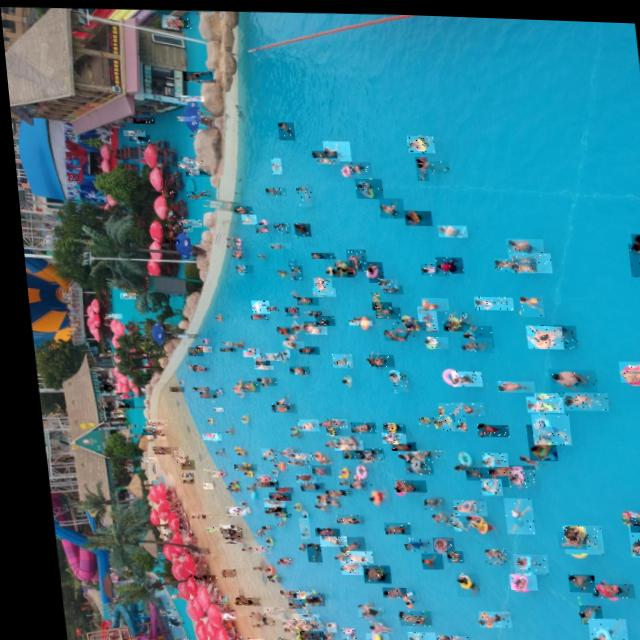Person: (522, 407, 563, 440), (541, 362, 590, 389), (551, 519, 593, 550), (493, 493, 525, 530), (517, 419, 549, 456), (478, 459, 527, 483), (575, 612, 616, 640), (531, 319, 571, 344), (519, 319, 557, 344), (504, 246, 547, 268), (555, 386, 601, 406), (501, 233, 540, 256), (430, 398, 458, 427), (617, 517, 640, 552), (502, 548, 537, 570), (456, 320, 487, 344), (579, 577, 623, 593), (517, 390, 556, 408), (611, 355, 640, 378), (489, 252, 532, 267), (443, 494, 477, 512), (498, 463, 528, 483), (468, 291, 508, 306), (444, 568, 468, 593), (623, 237, 640, 272), (466, 606, 499, 624), (351, 174, 379, 195), (320, 137, 348, 158), (386, 606, 419, 623), (357, 480, 380, 504), (395, 451, 424, 470), (453, 332, 485, 349), (546, 526, 576, 544), (404, 131, 432, 150), (556, 568, 584, 587), (351, 561, 379, 580), (513, 291, 538, 312), (340, 245, 362, 268), (375, 194, 400, 214), (411, 302, 431, 327), (443, 366, 474, 382), (489, 375, 527, 388), (279, 611, 308, 628), (498, 569, 527, 586), (430, 252, 458, 269), (438, 305, 465, 322), (567, 600, 591, 619), (468, 419, 500, 433), (414, 156, 446, 170), (526, 387, 552, 404), (381, 366, 401, 388), (329, 557, 358, 572), (446, 397, 477, 411), (386, 475, 417, 489), (400, 206, 428, 221), (399, 444, 437, 455), (456, 462, 485, 476), (472, 447, 499, 462), (393, 533, 420, 548), (327, 533, 354, 548), (415, 293, 443, 307), (470, 474, 493, 491), (324, 435, 354, 448), (433, 220, 463, 233), (415, 259, 445, 272), (307, 274, 327, 293), (384, 318, 409, 333), (291, 181, 308, 203), (618, 510, 640, 527), (410, 549, 433, 565), (394, 628, 424, 640), (362, 257, 378, 279), (421, 533, 443, 549), (373, 518, 400, 531), (335, 547, 362, 560), (412, 152, 426, 177), (288, 589, 313, 603), (243, 522, 266, 537), (361, 350, 387, 363), (355, 618, 381, 631), (474, 544, 495, 560), (308, 531, 336, 543), (423, 630, 456, 640), (287, 617, 312, 630), (345, 602, 372, 614), (626, 227, 640, 250), (331, 257, 351, 273), (341, 418, 367, 430), (369, 303, 395, 315), (181, 162, 207, 174), (237, 610, 263, 622), (346, 157, 368, 171), (421, 508, 443, 522), (275, 119, 292, 137), (295, 540, 311, 559), (373, 428, 398, 440), (181, 68, 211, 78), (418, 332, 441, 345), (250, 604, 273, 617), (324, 350, 345, 364), (377, 325, 401, 337), (349, 444, 375, 455), (164, 15, 190, 26), (288, 415, 310, 428), (346, 449, 374, 459), (436, 317, 464, 327), (326, 511, 354, 521), (290, 478, 315, 489), (370, 583, 395, 594), (286, 627, 311, 638), (352, 629, 377, 640), (414, 493, 435, 506), (388, 446, 415, 456), (262, 400, 289, 410), (288, 514, 300, 536), (181, 188, 210, 197), (267, 587, 293, 597), (328, 623, 343, 640), (374, 419, 397, 430), (192, 112, 213, 124), (211, 524, 232, 536), (326, 432, 351, 442), (289, 219, 306, 233), (245, 297, 263, 310), (314, 485, 343, 493), (139, 417, 160, 428), (410, 414, 433, 424), (347, 311, 370, 321), (382, 438, 407, 447), (172, 216, 197, 225), (425, 412, 445, 423), (166, 220, 188, 230), (178, 153, 200, 163), (251, 445, 271, 456), (306, 284, 330, 293), (161, 207, 179, 219), (335, 433, 349, 448), (376, 280, 397, 290), (233, 378, 252, 389), (332, 446, 355, 455), (290, 293, 313, 302), (298, 322, 321, 331), (326, 265, 349, 274), (174, 158, 197, 167), (276, 594, 293, 606), (309, 312, 329, 322), (400, 317, 420, 327), (304, 525, 329, 533), (286, 470, 306, 480), (302, 462, 322, 472), (261, 184, 283, 193), (268, 219, 286, 230), (160, 219, 178, 230), (125, 132, 147, 141), (253, 495, 275, 504), (259, 489, 281, 498), (284, 262, 297, 277), (279, 449, 303, 457), (224, 595, 248, 603), (436, 546, 452, 558), (373, 275, 392, 285), (250, 220, 269, 230), (267, 154, 278, 171), (182, 572, 205, 580), (180, 509, 203, 517), (236, 543, 259, 551), (308, 147, 334, 154), (249, 374, 269, 383), (366, 298, 386, 307), (215, 504, 235, 513), (254, 502, 276, 510), (271, 625, 287, 636), (275, 337, 297, 345), (306, 249, 331, 256), (278, 457, 303, 464), (246, 471, 265, 480), (265, 484, 284, 493), (229, 262, 248, 271), (322, 415, 339, 425), (154, 615, 171, 625), (281, 363, 302, 371), (224, 461, 248, 468), (213, 533, 234, 541), (289, 600, 300, 615), (191, 387, 209, 396), (283, 256, 293, 272), (292, 343, 312, 351), (193, 430, 213, 438), (209, 523, 229, 531), (180, 344, 196, 354), (236, 211, 252, 221), (264, 239, 286, 246), (247, 477, 269, 484), (109, 397, 126, 406), (257, 349, 274, 358), (267, 554, 284, 563), (229, 203, 248, 211), (339, 478, 358, 486), (171, 457, 186, 467), (278, 304, 293, 314), (236, 347, 254, 355), (297, 317, 313, 326), (342, 317, 366, 323), (107, 390, 125, 398), (270, 323, 288, 331), (172, 470, 185, 481), (365, 288, 375, 302), (313, 154, 336, 160), (179, 93, 202, 99), (120, 128, 143, 134), (210, 566, 225, 575), (130, 115, 152, 121), (161, 444, 172, 456), (284, 588, 300, 596), (147, 606, 163, 614), (272, 636, 303, 640), (313, 619, 324, 630), (174, 113, 194, 119), (165, 448, 175, 460), (208, 610, 223, 618), (328, 256, 345, 263), (101, 409, 118, 416), (134, 427, 153, 433), (155, 187, 171, 194), (269, 616, 283, 624), (192, 75, 214, 80), (135, 432, 157, 437), (98, 311, 116, 317), (184, 384, 202, 390), (259, 634, 277, 640), (208, 521, 226, 527), (317, 424, 332, 431), (190, 343, 205, 350), (260, 302, 274, 309), (95, 382, 109, 389), (215, 338, 231, 344), (114, 291, 130, 297), (142, 444, 161, 449), (245, 311, 263, 316), (145, 447, 163, 452), (235, 635, 253, 640), (206, 446, 217, 454), (263, 510, 280, 515), (130, 455, 147, 460), (246, 353, 258, 360), (133, 422, 154, 426), (186, 545, 198, 552), (246, 362, 266, 366), (172, 469, 182, 477), (213, 344, 229, 349), (97, 376, 110, 382), (202, 468, 213, 475), (116, 421, 131, 426), (161, 384, 176, 389), (248, 357, 262, 362), (160, 236, 174, 241), (240, 345, 253, 350), (195, 525, 208, 530), (193, 481, 203, 487), (170, 450, 178, 457), (178, 363, 192, 367), (165, 637, 183, 640), (245, 638, 267, 640), (205, 405, 215, 409), (164, 638, 184, 640), (353, 639, 383, 640), (194, 467, 201, 470), (217, 640, 238, 640)
